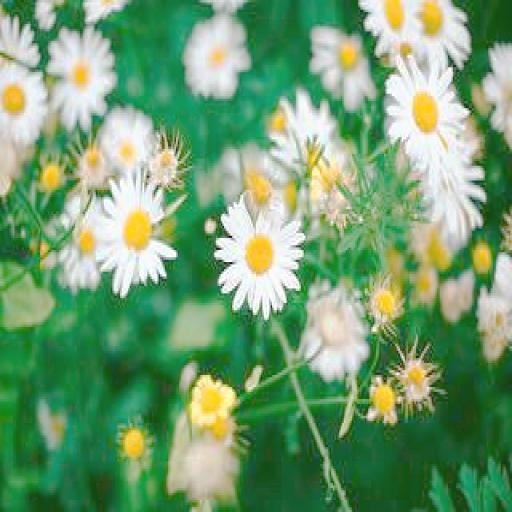daisy: (222, 202, 300, 312), (389, 72, 467, 164), (100, 180, 166, 276), (48, 34, 110, 118), (58, 209, 108, 289), (190, 20, 242, 92), (101, 115, 152, 171)
